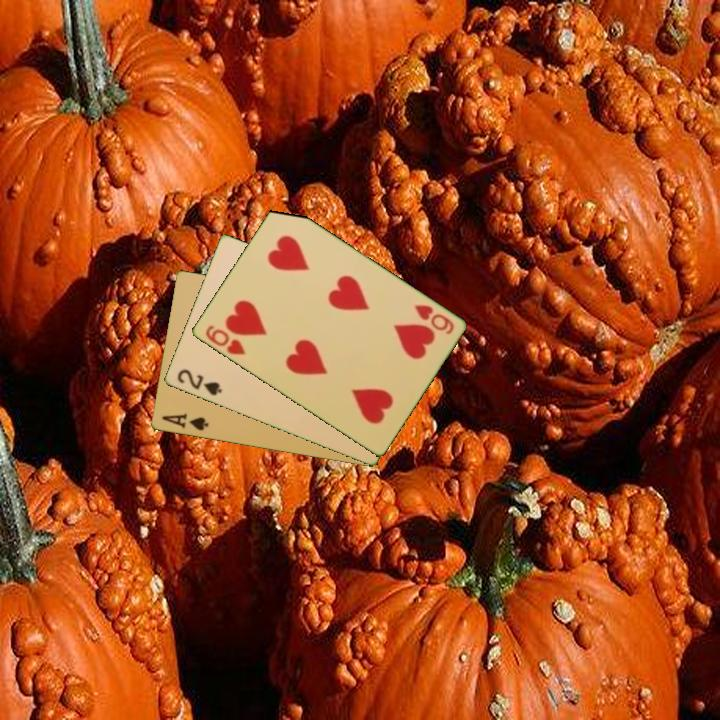2s: (173, 366, 224, 399)
6h: (201, 322, 248, 358), (411, 301, 456, 338)
As: (158, 410, 211, 434)
